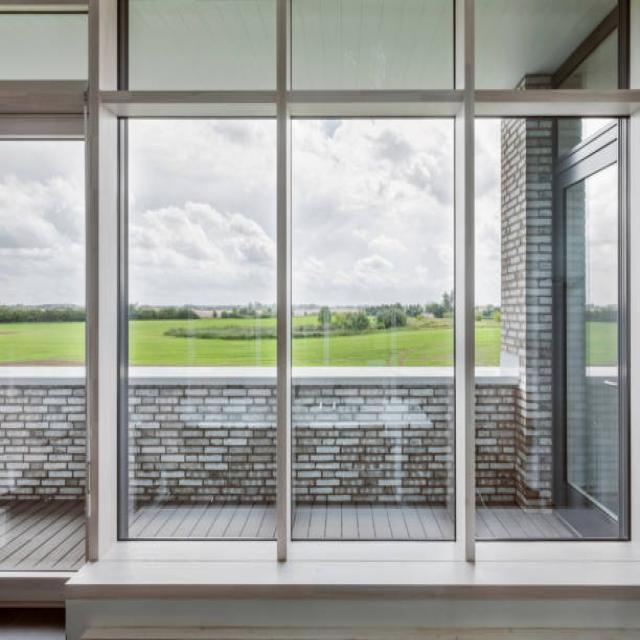Window: (286, 112, 463, 560), (472, 108, 636, 561), (123, 117, 283, 561)
